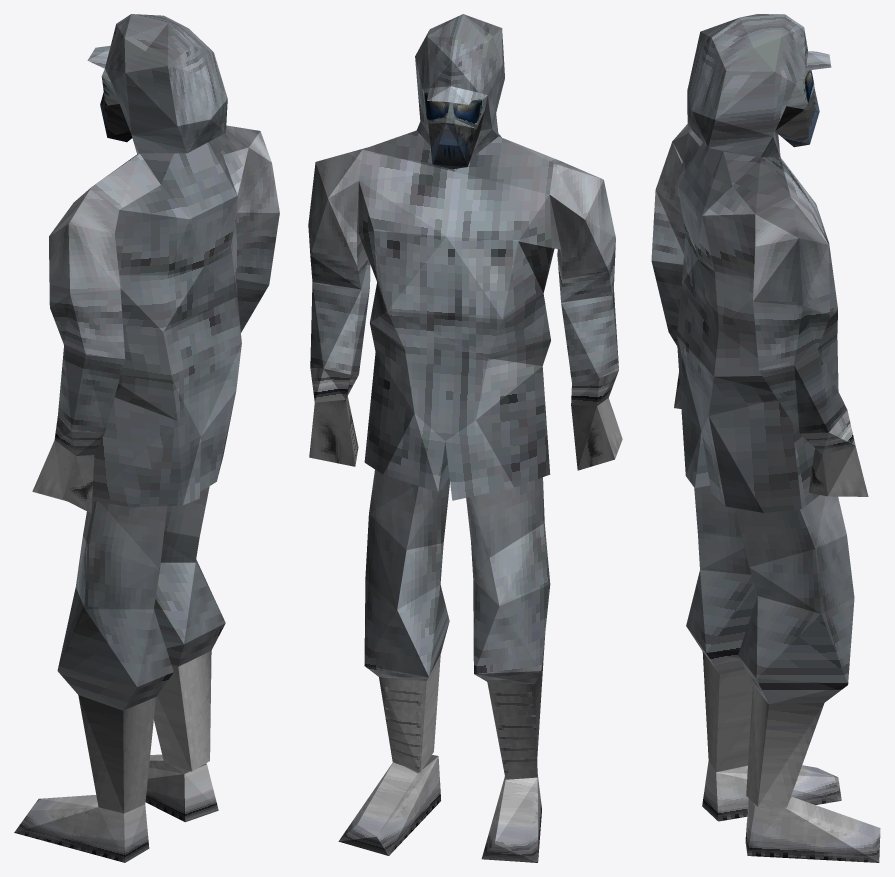
The model's file is primary_001.glb.
3 renders of one model, left to right at view 1: azimuth 30°, elevation 25°; view 2: azimuth 150°, elevation 25°; view 3: azimuth 270°, elevation 25°, orthographic. The views are drawn at different scales.
Visible parts, largest first — view 1: Object; view 2: Object; view 3: Object.
Boxes of the visible parts, bbox=[...] form: Object: bbox=[14, 14, 279, 862]; Object: bbox=[308, 14, 622, 862]; Object: bbox=[651, 14, 880, 862].
Bounding box in the file's own units: 0.7305 × 2.08 × 0.5267.
71 materials, 71 textured.
